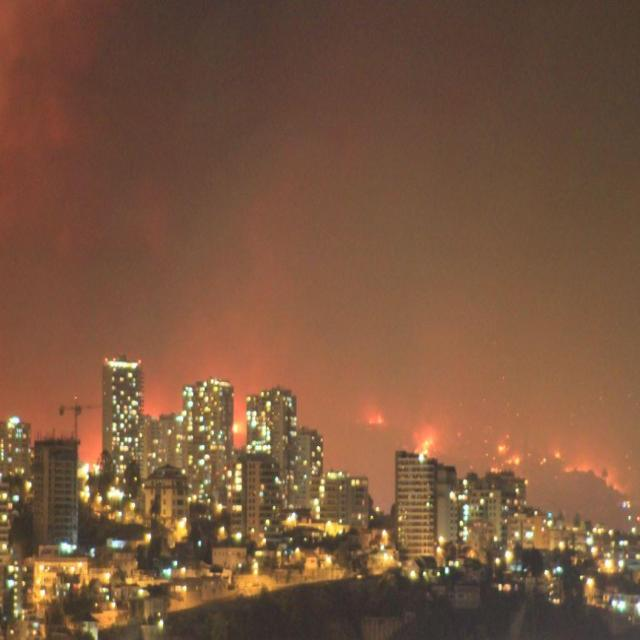Fire: (486, 431, 522, 476), (415, 438, 435, 465), (368, 409, 388, 426), (232, 420, 239, 436), (552, 449, 562, 459)
